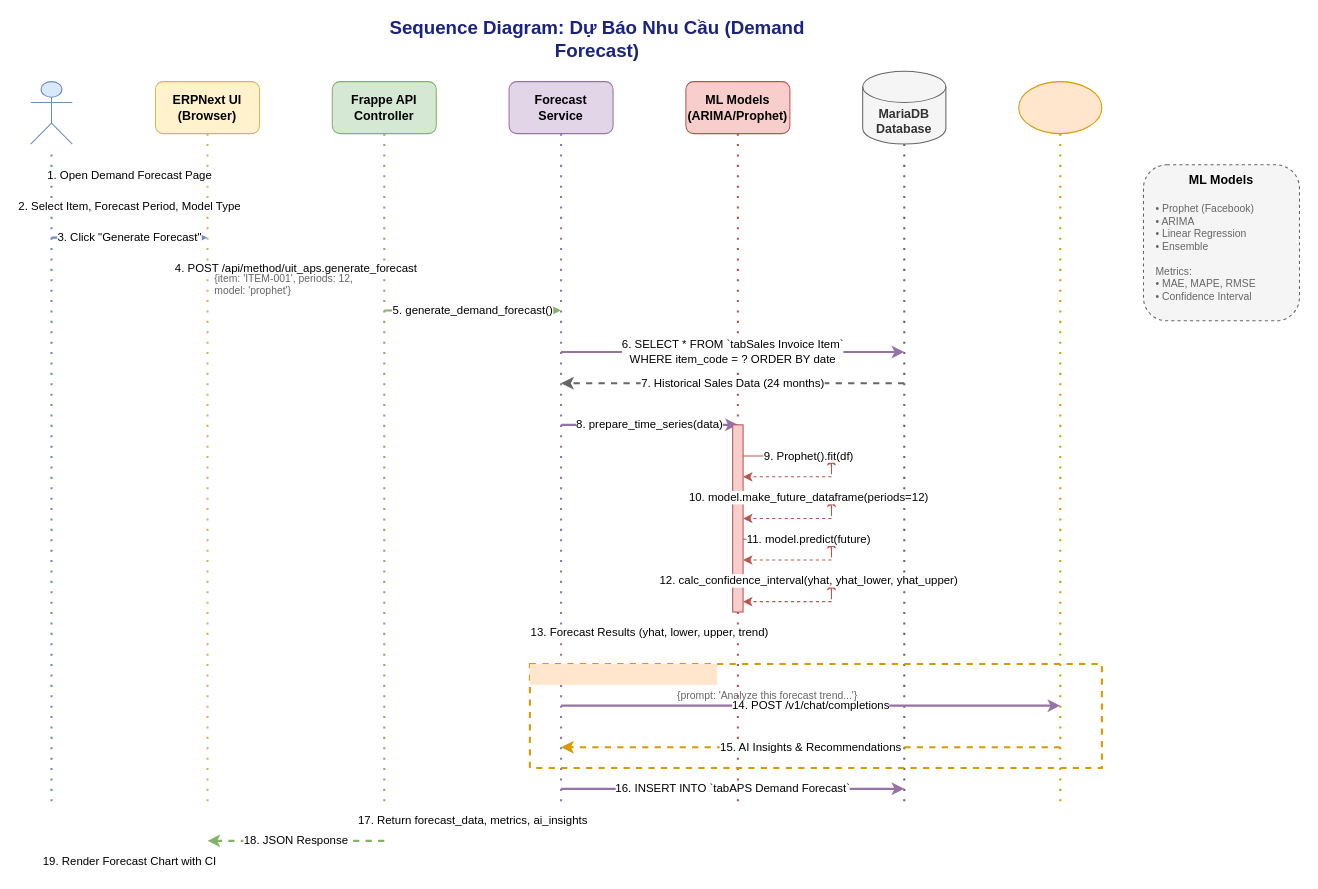
Some shapes in this 1318 by 889 pixel diagram are drawn without their labels. Here are the shapes that lost their labels. From the top down, the centre of each, then its label:
the point at 51,112: Sales Manager
the point at 1060,107: OpenAI API
the point at 623,674: opt [enable_ai_insights = true]
